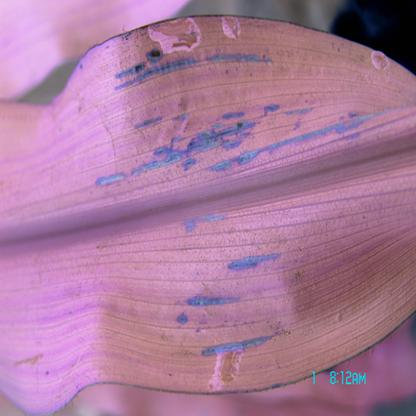Corn leaf blight: (4, 28, 415, 371)
